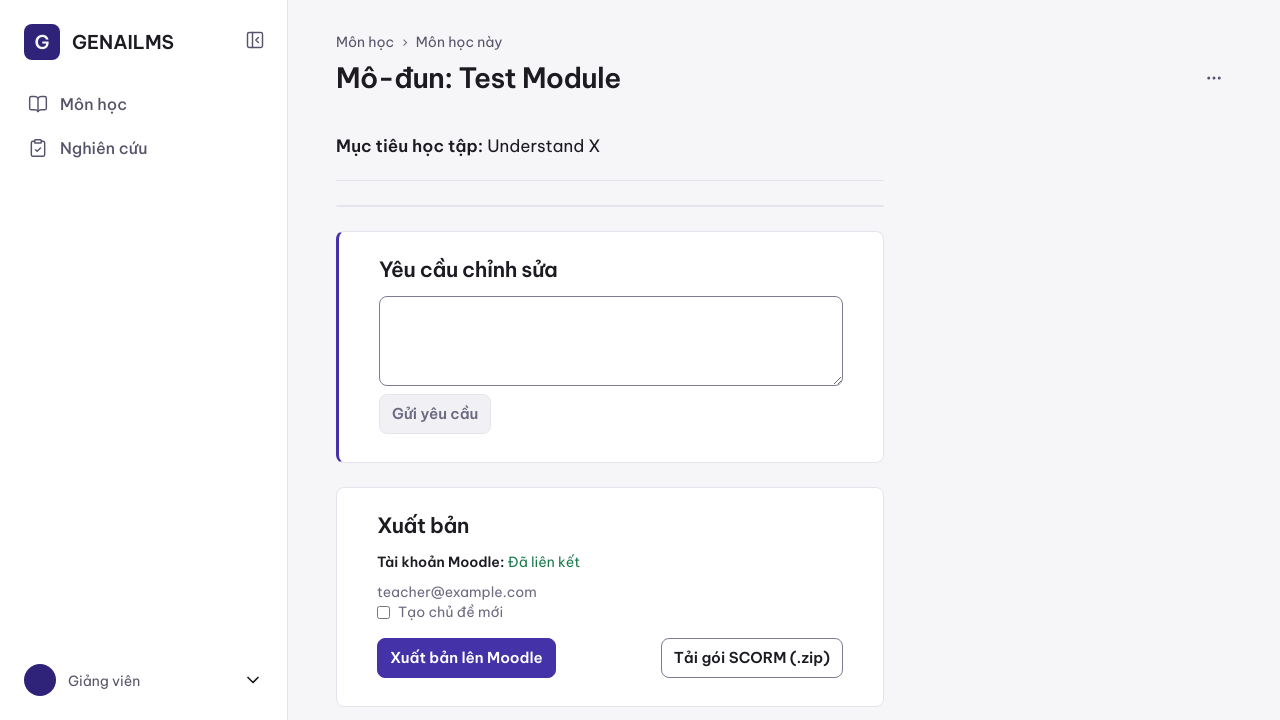
ModulePreviewPage - publish refused by the module › brings the form back once access is confirmed again, after a refusal for questions to review
Click the button "Xuất bản lên Moodle": point(466, 658) [377,638,556,678]
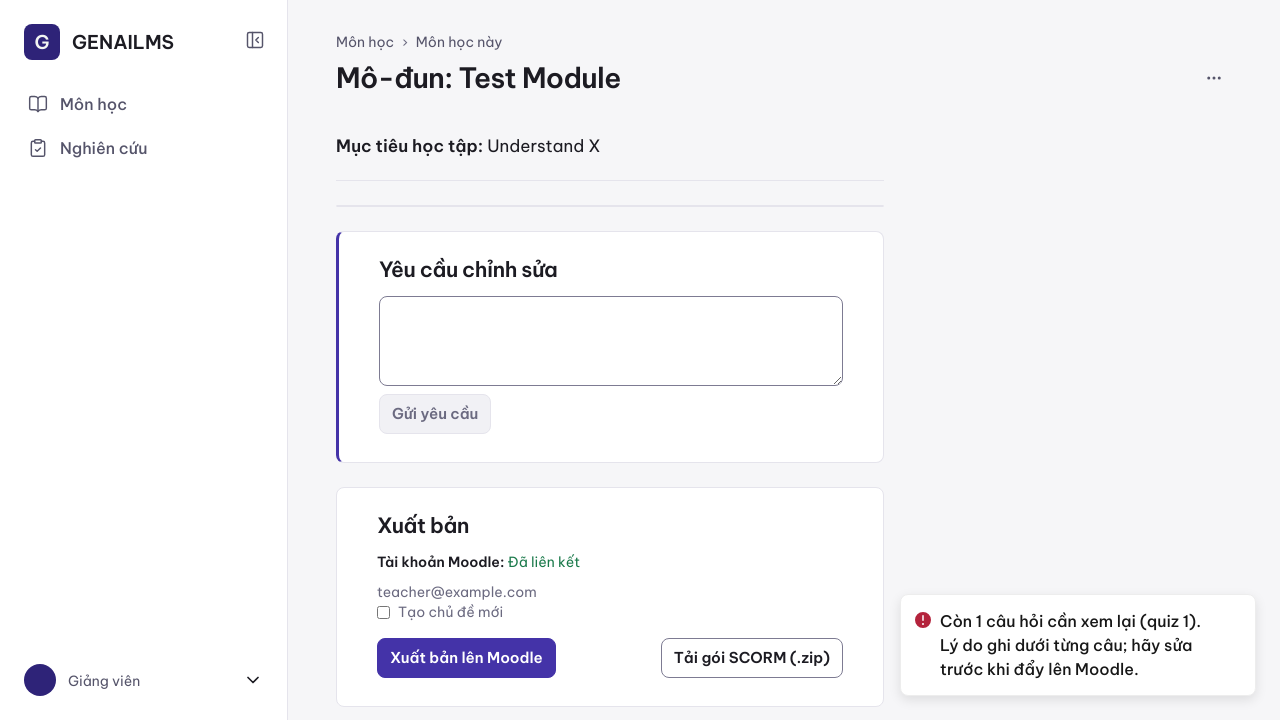
Now the text "Còn 1 câu hỏi cần xem lại (quiz 1). Lý do ghi dưới từng câu; hãy sửa trước khi đẩy lên Moodle." is shown, box [940,611,1201,679]
